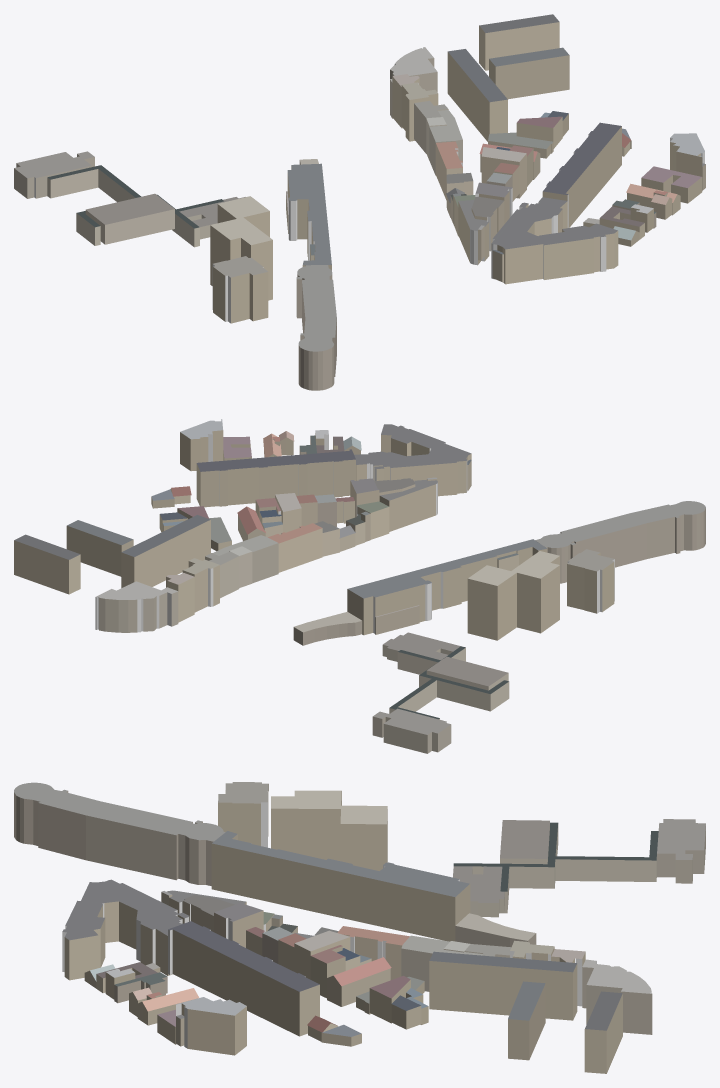
3 views of the same model, one above another, from view 1: azimuth 30°, elevation 25°; view 2: azimuth 150°, elevation 25°; view 3: azimuth 270°, elevation 25° (orthographic). The views are drawn at different scales.
Visible parts, largest first — view 1: tuile; view 2: tuile; view 3: tuile.
Boxes of the visible parts, left/top/right/bottom form: tuile: left=14, top=14, right=705, bottom=390; tuile: left=14, top=419, right=705, bottom=753; tuile: left=14, top=782, right=705, bottom=1073.
Bounding box in the file's own units: 269 × 43.33 × 280.
